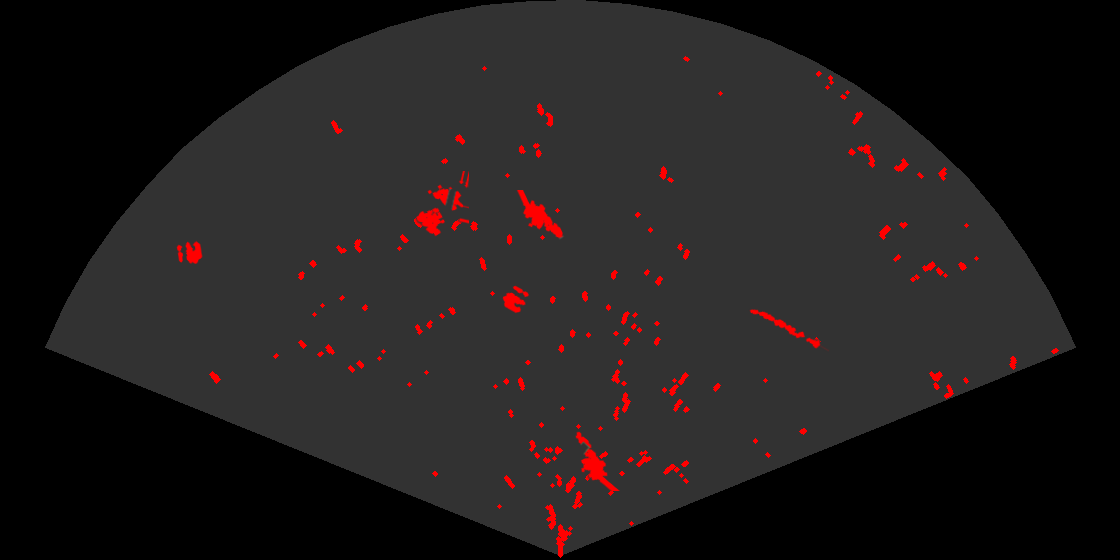ball: (501, 284, 531, 315), (175, 239, 204, 265)
cage: (415, 171, 469, 238)
chain: (748, 308, 829, 353)
frogman: (574, 430, 620, 491), (515, 190, 565, 240)
